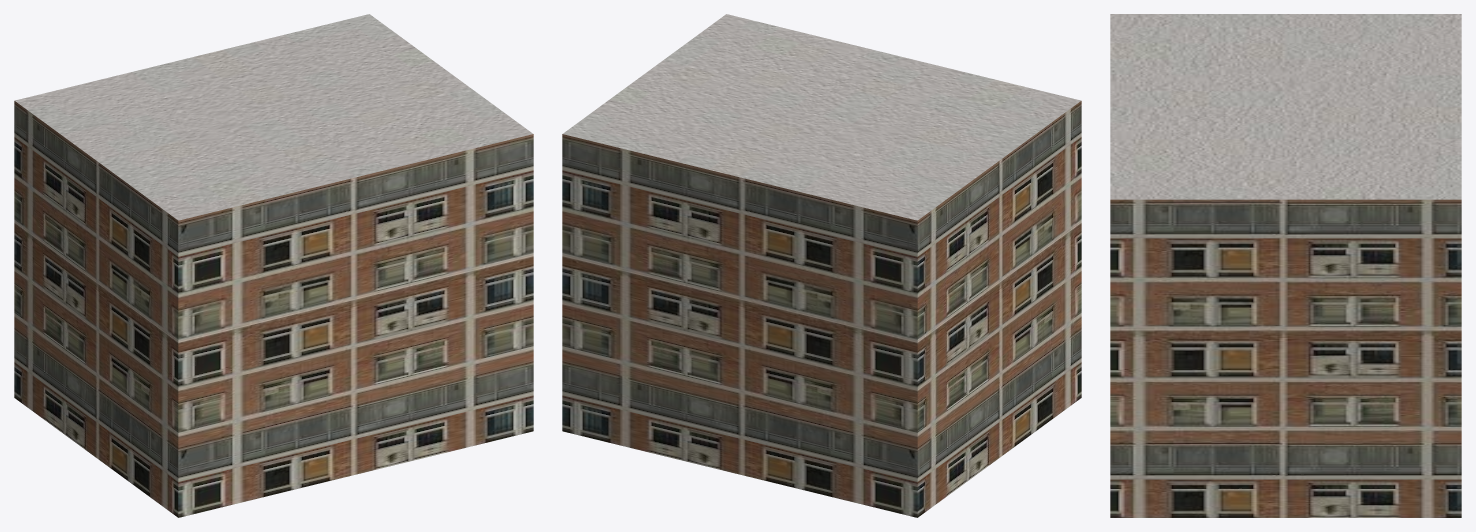
File: building_008.glb
3 renders of one model, left to right at view 1: azimuth 30°, elevation 25°; view 2: azimuth 150°, elevation 25°; view 3: azimuth 270°, elevation 25°, orthographic. The views are drawn at different scales.
Visible parts, largest first — view 1: building_008; view 2: building_008; view 3: building_008.
Part boxes in pixels (left/top/right/bottom): building_008: left=14, top=14, right=533, bottom=517; building_008: left=562, top=14, right=1081, bottom=517; building_008: left=1110, top=14, right=1461, bottom=517.
Bounding box in the file's own units: 1500 × 1200 × 1200.
Materials: 2 (2 with a texture image).
